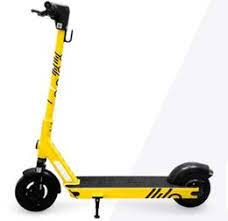kick_board: (15, 1, 213, 211)
kick_body: (78, 176, 167, 197)
kick_handler: (30, 2, 70, 29)
kick_neck: (38, 33, 62, 155)
kick_wheel: (17, 167, 57, 212), (171, 164, 210, 208)
